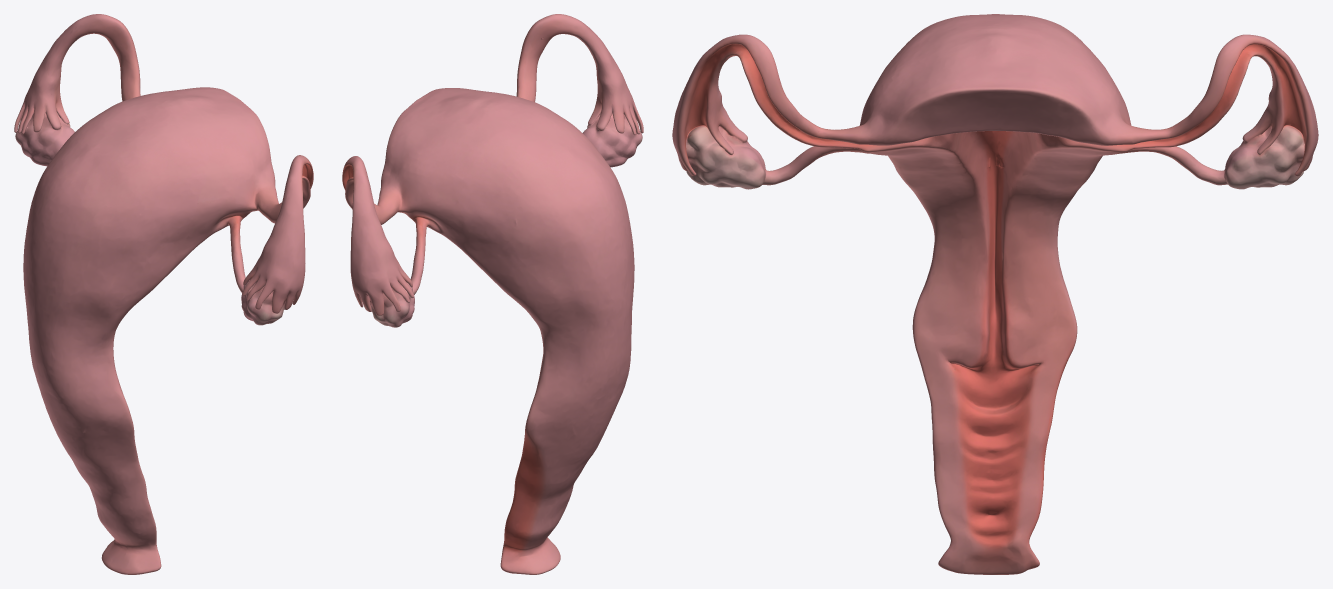
Rendered from uterus.glb.
The picture shows the model from 3 angles, left to right: view 1: azimuth 30°, elevation 25°; view 2: azimuth 150°, elevation 25°; view 3: azimuth 270°, elevation 25°; orthographic projection. The views are drawn at different scales.
Visible parts, largest first — view 1: tripo_node_37228894-5ecd-48f5-a50d-cad60f4159ea; view 2: tripo_node_37228894-5ecd-48f5-a50d-cad60f4159ea; view 3: tripo_node_37228894-5ecd-48f5-a50d-cad60f4159ea.
Part boxes in pixels (x1=…): tripo_node_37228894-5ecd-48f5-a50d-cad60f4159ea: x1=14, y1=14, x2=313, y2=574; tripo_node_37228894-5ecd-48f5-a50d-cad60f4159ea: x1=342, y1=14, x2=643, y2=574; tripo_node_37228894-5ecd-48f5-a50d-cad60f4159ea: x1=672, y1=14, x2=1318, y2=574.
Size of the model in its own units: 0.469 by 0.9892 by 1.
1 material, 1 textured.
